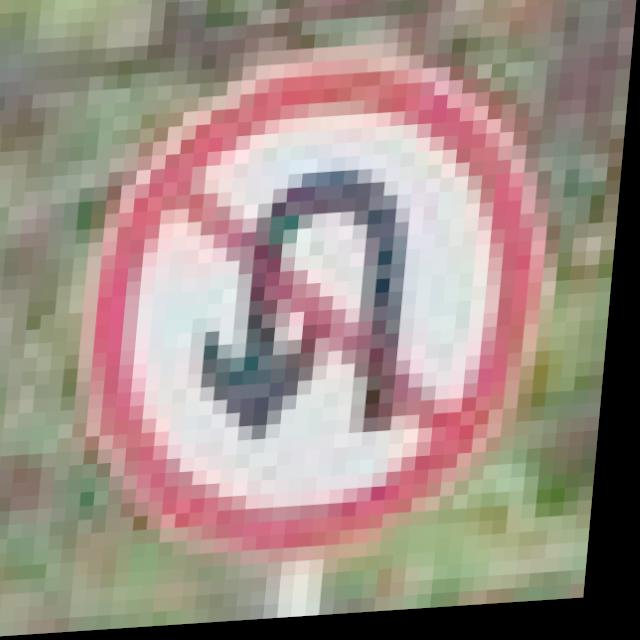U_TURN_PROHIBITED: (34, 24, 625, 598)
